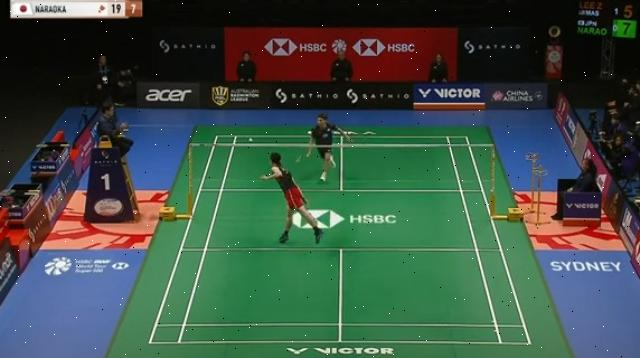Shuttlecock: (245, 134, 255, 144)
